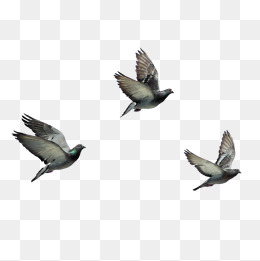bird: (11, 117, 86, 179), (110, 49, 178, 117), (182, 129, 244, 190)
